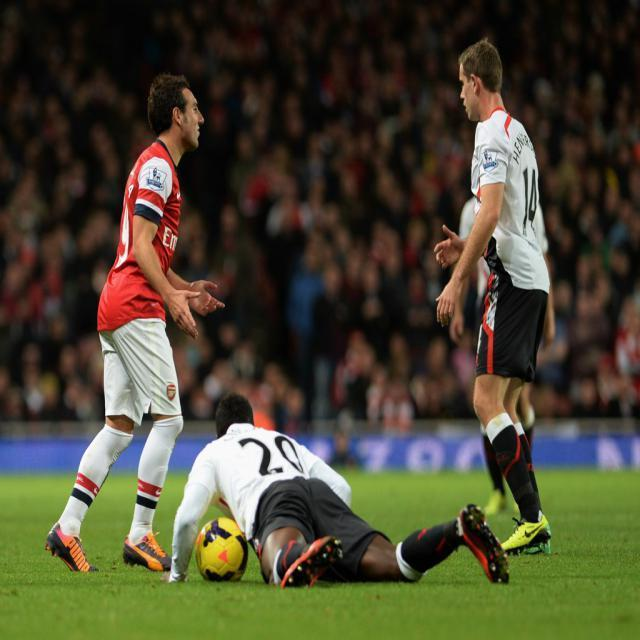football: (190, 519, 259, 591)
